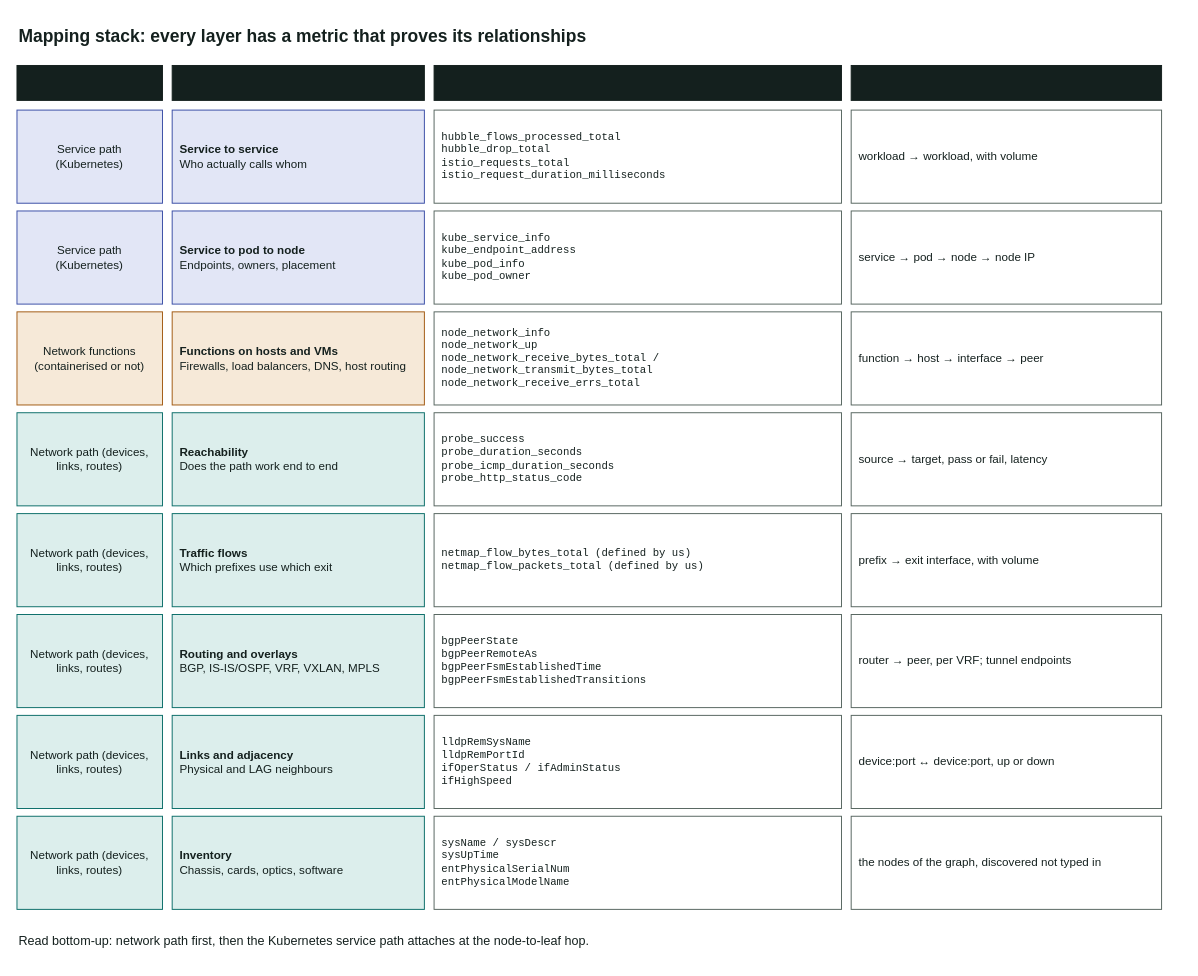
Image size: 1198x976. Some labels were removed from this diagram. The shapes that lost their labels are listed below. From the top down, each one's box as (x1, y1, x2, y2) in pixels, then its label:
(16, 65, 162, 100): Domain
(171, 65, 424, 100): Layer and what is mapped
(433, 65, 841, 100): Series that carries it
(850, 65, 1162, 100): Edge it gives the graph
